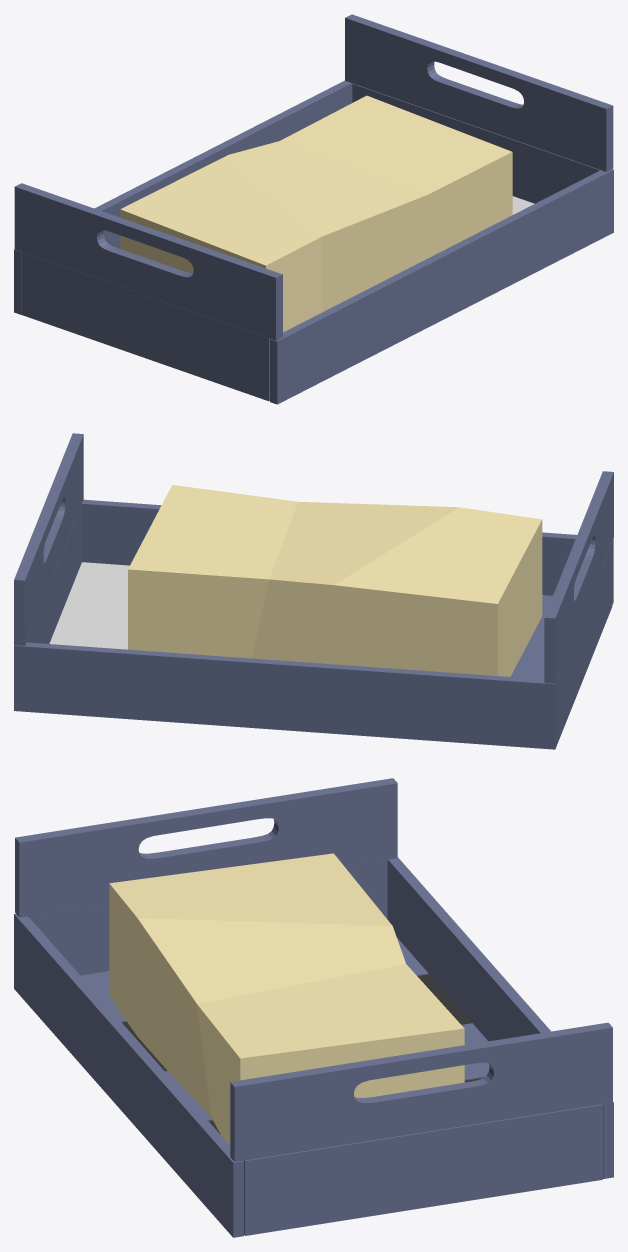
The model's file is branket.fbx.
The picture shows the model from 3 angles, top to bottom: view 1: azimuth 30°, elevation 25°; view 2: azimuth 150°, elevation 25°; view 3: azimuth 270°, elevation 25°; orthographic projection. The views are drawn at different scales.
Parts seen in each view (by area): view 1: paper_244, l_b_low_002_232, u_c_low_002_245, u_a_low_002_246, l_c_low_002_233, l_d_low_002_234, l_a_low_002_231; view 2: paper_244, l_d_low_002_234, u_c_low_002_245, u_a_low_002_246, l_b_low_002_232, b_a_low_002_225, l_c_low_002_233, l_a_low_002_231, b_e_low_002_229; view 3: paper_244, u_a_low_002_246, l_a_low_002_231, u_c_low_002_245, l_b_low_002_232, l_d_low_002_234, l_c_low_002_233, b_e_low_002_229, b_c_low_002_227, b_d_low_002_228.
Part boxes in pixels (left/top/right/bottom): paper_244: left=120, top=95, right=512, bottom=332; l_b_low_002_232: left=270, top=169, right=613, bottom=404; u_c_low_002_245: left=14, top=183, right=282, bottom=340; u_a_low_002_246: left=345, top=14, right=613, bottom=171; l_c_low_002_233: left=21, top=252, right=269, bottom=401; l_d_low_002_234: left=14, top=80, right=352, bottom=314; l_a_low_002_231: left=352, top=83, right=600, bottom=203; paper_244: left=128, top=485, right=542, bottom=676; l_d_low_002_234: left=14, top=642, right=556, bottom=749; u_c_low_002_245: left=544, top=471, right=613, bottom=683; u_a_low_002_246: left=14, top=433, right=83, bottom=645; l_b_low_002_232: left=82, top=499, right=613, bottom=604; b_a_low_002_225: left=49, top=562, right=129, bottom=649; l_c_low_002_233: left=557, top=542, right=612, bottom=744; l_a_low_002_231: left=27, top=504, right=81, bottom=643; b_e_low_002_229: left=510, top=595, right=552, bottom=679; paper_244: left=109, top=853, right=464, bottom=1145; u_a_low_002_246: left=230, top=1022, right=612, bottom=1161; l_a_low_002_231: left=244, top=1104, right=602, bottom=1235; u_c_low_002_245: left=15, top=778, right=397, bottom=917; l_b_low_002_232: left=14, top=913, right=243, bottom=1237; l_d_low_002_234: left=387, top=857, right=613, bottom=1178; l_c_low_002_233: left=28, top=859, right=387, bottom=975; b_e_low_002_229: left=81, top=938, right=428, bottom=1022; b_c_low_002_227: left=165, top=1023, right=489, bottom=1120; b_d_low_002_228: left=122, top=974, right=471, bottom=1071.
Size of the model in its own units: 38.96 by 8.85 by 31.95.
